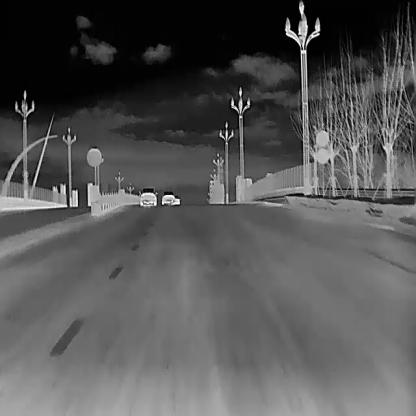car: (138, 187, 158, 206), (161, 190, 174, 204), (174, 194, 180, 203)
